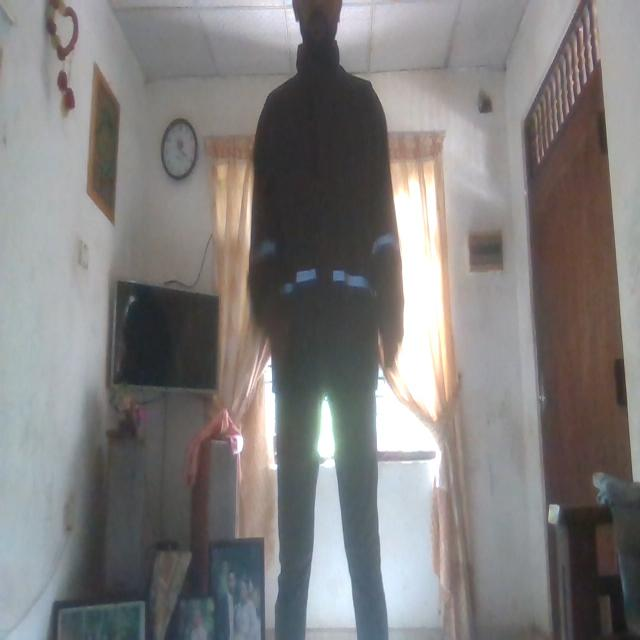Jacket_Wearer: (244, 51, 410, 387)
Person: (244, 2, 407, 640)
